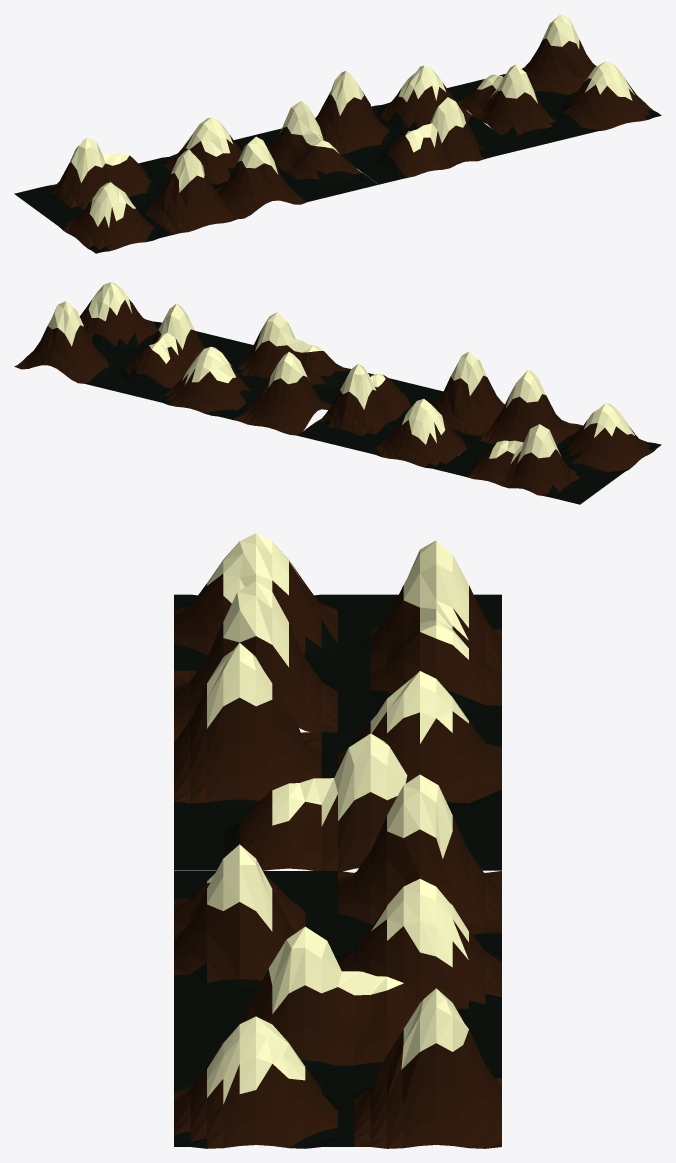
File: low poly mountains.FBX
3 views of the same model, one above another, from view 1: azimuth 30°, elevation 25°; view 2: azimuth 150°, elevation 25°; view 3: azimuth 270°, elevation 25° (orthographic). The views are drawn at different scales.
Visible parts, largest first — view 1: Plane001, Plane004, Plane003, Plane002; view 2: Plane001, Plane002, Plane004, Plane003; view 3: Plane004, Plane002, Plane003, Plane001.
Boxes of the visible parts, box(x1,y1,x2,y2) form: Plane001: box(14, 137, 237, 253); Plane004: box(447, 14, 661, 149); Plane003: box(315, 65, 520, 184); Plane002: box(156, 101, 378, 219); Plane001: box(438, 370, 661, 504); Plane002: box(297, 352, 504, 469); Plane004: box(14, 282, 236, 400); Plane003: box(156, 312, 374, 435); Plane004: box(174, 926, 501, 1148); Plane002: box(174, 643, 501, 871); Plane003: box(174, 774, 501, 1009); Plane001: box(174, 533, 501, 733).
Bounding box in the file's own units: 598 × 63.76 × 150.
